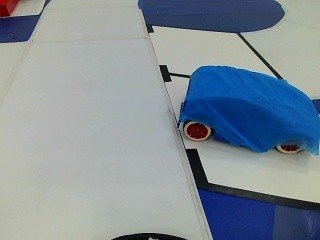car: (171, 63, 318, 159)
